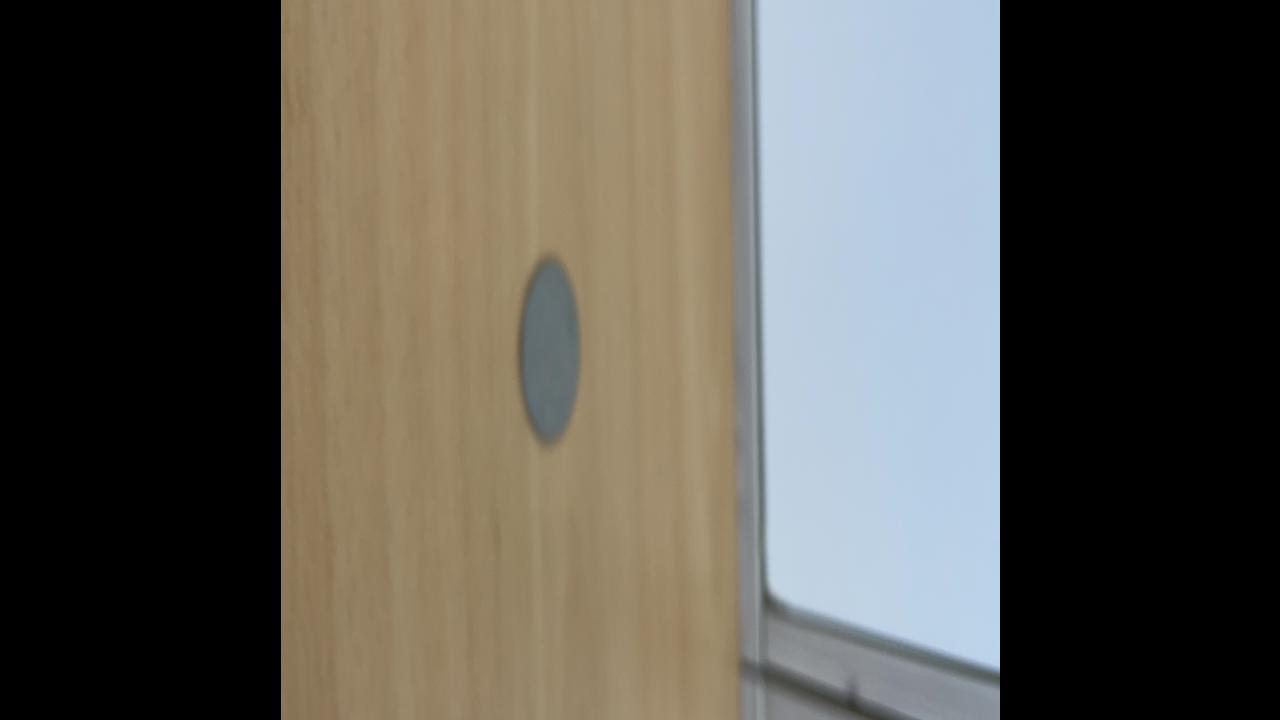coin: (518, 252, 582, 448)
